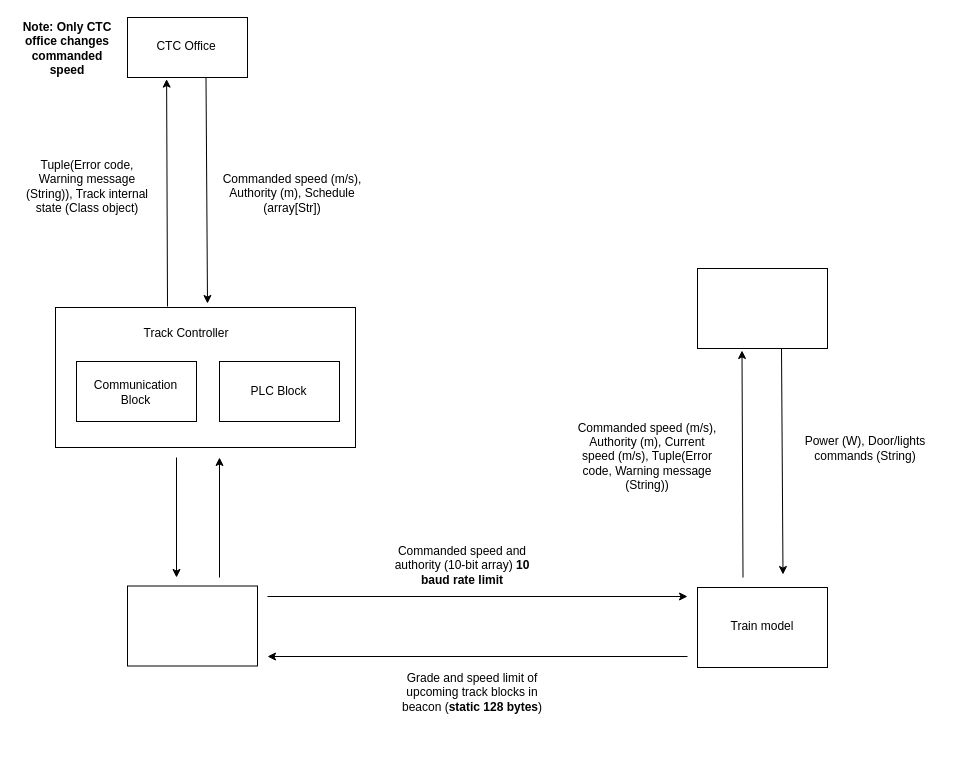
The diagram is 957 pixels wide and 768 high, and some of its shapes have lost their labels. The shapes that lost their labels are listed below. From the top down, each one's centre as x and y in pixels, then its label:
pixel 762 308: Train Controller
pixel 192 625: Track model
